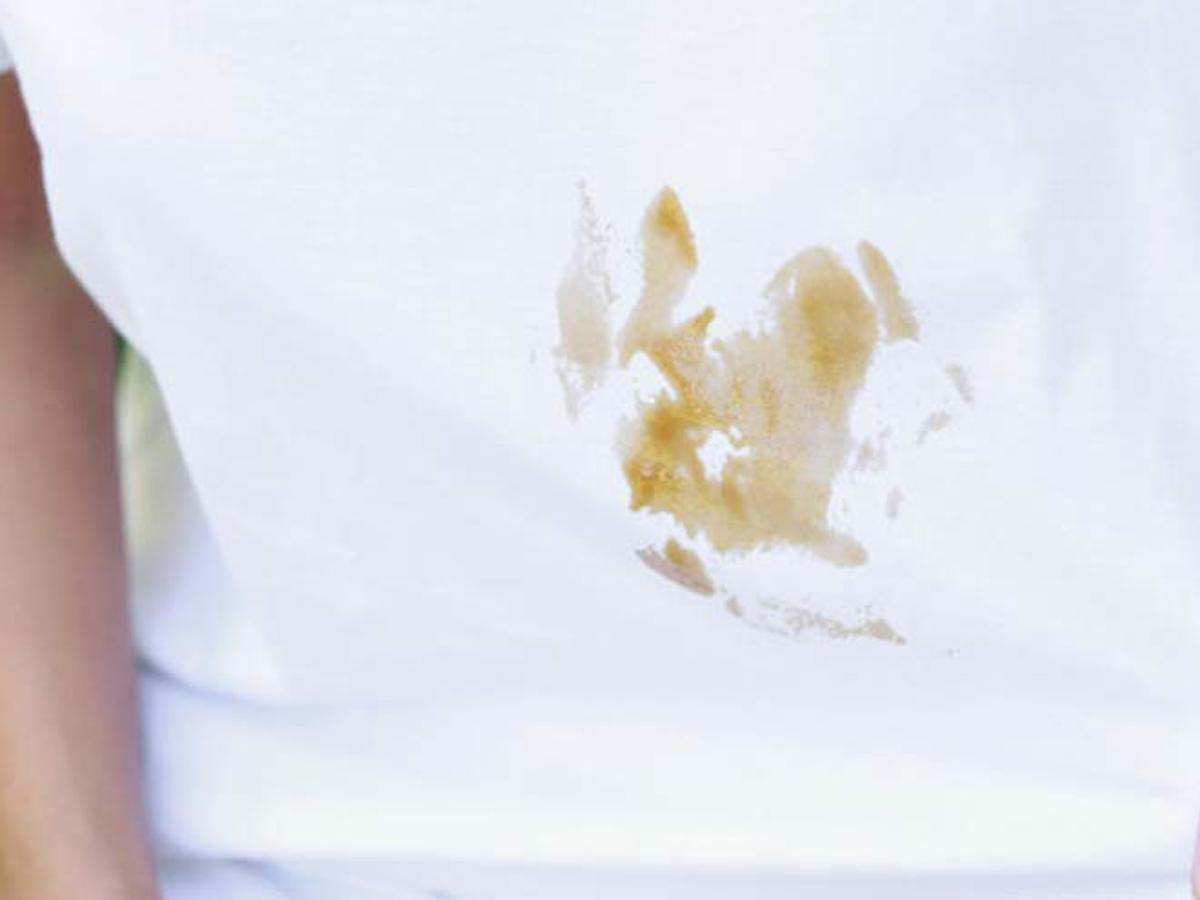gun: (548, 162, 981, 671)
